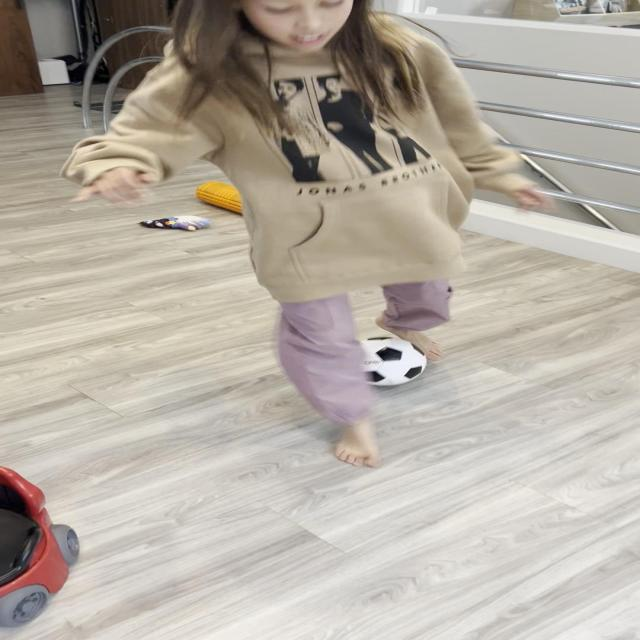Soccer Ball: (334, 337, 432, 388)
